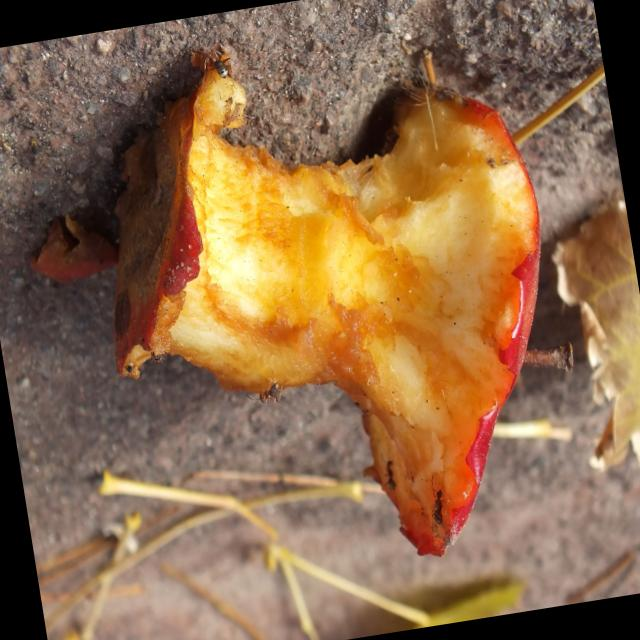apple_fruit: (74, 5, 592, 606)
